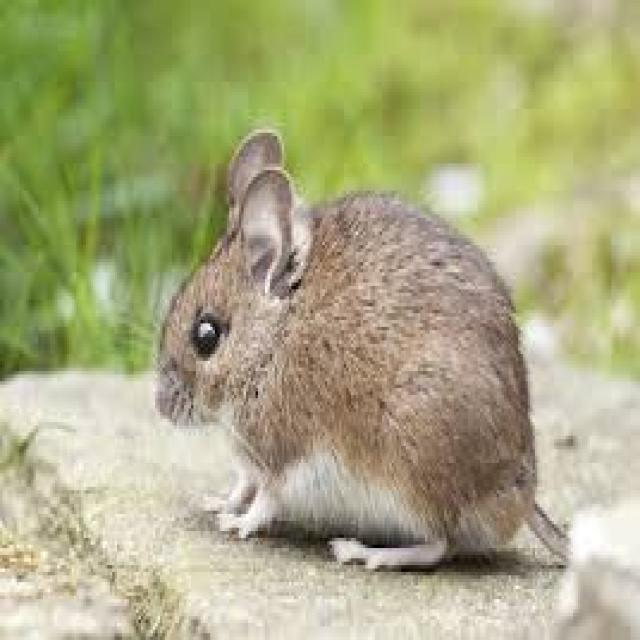Mouse: (157, 128, 537, 566)
